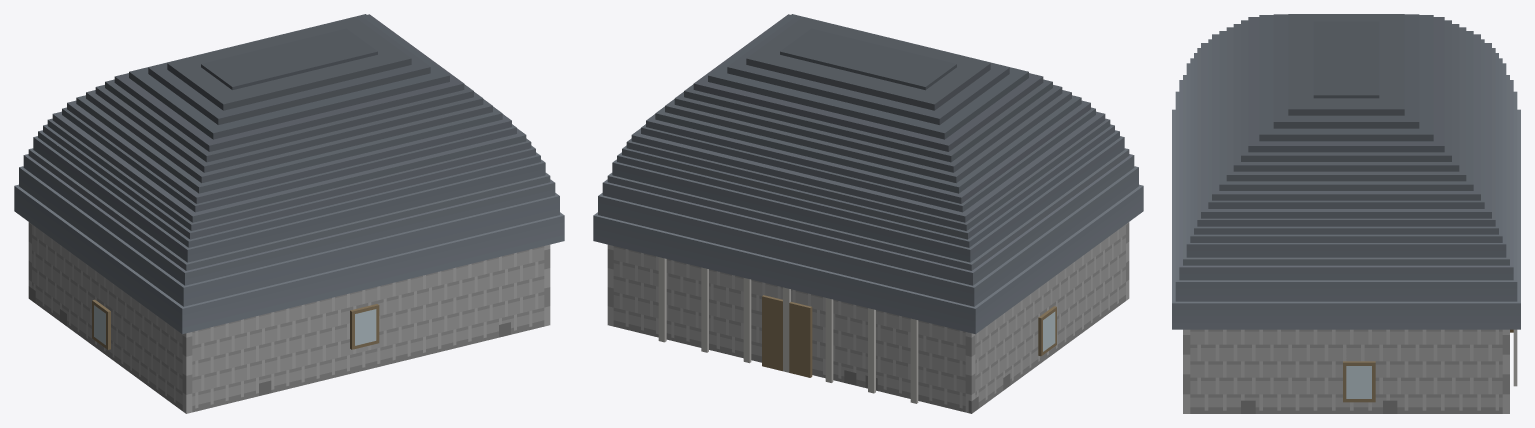
File: gran_mercado_01.glb
3 views of the same model, side by side, from view 1: azimuth 30°, elevation 25°; view 2: azimuth 150°, elevation 25°; view 3: azimuth 270°, elevation 25° (orthographic). The views are drawn at different scales.
Parts seen in each view (by area): view 1: gran_mercado_01; view 2: gran_mercado_01; view 3: gran_mercado_01.
Part boxes in pixels (x1=…): gran_mercado_01: x1=14, y1=14, x2=564, y2=413; gran_mercado_01: x1=593, y1=14, x2=1143, y2=413; gran_mercado_01: x1=1172, y1=14, x2=1520, y2=413.
Bounding box in the file's own units: 12.6 × 8 × 9.6.
